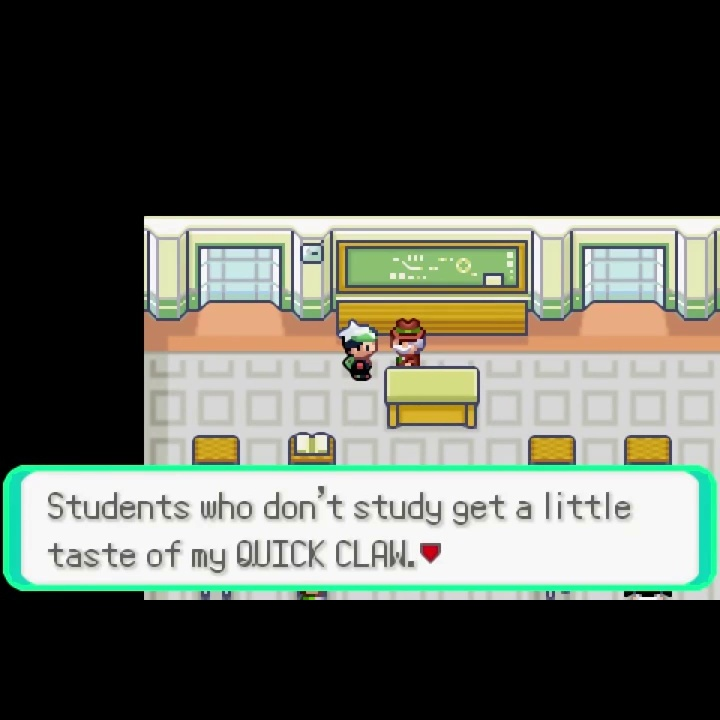npc: (335, 317, 381, 385), (387, 316, 427, 368)
